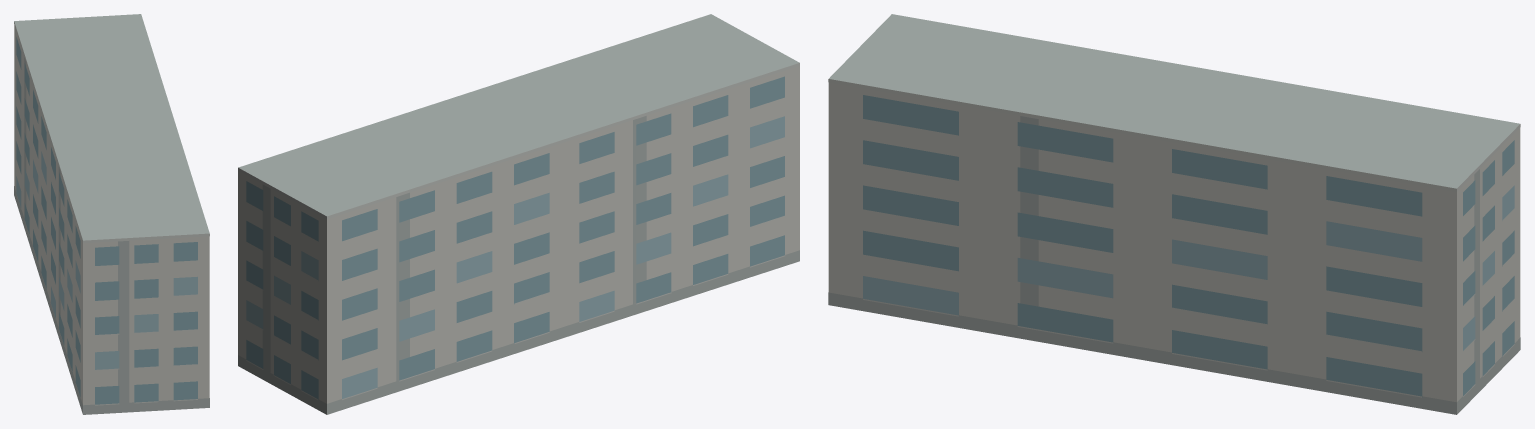
The model's file is residential-dc03321d-0257-4aed-bbbf-1547e595a48e.glb.
The picture shows the model from 3 angles, left to right: view 1: azimuth 30°, elevation 25°; view 2: azimuth 150°, elevation 25°; view 3: azimuth 270°, elevation 25°; orthographic projection. The views are drawn at different scales.
Parts seen in each view (by area): view 1: residential-dc03321d-0257-4aed-bbbf-1547e595a48e.tmp; view 2: residential-dc03321d-0257-4aed-bbbf-1547e595a48e.tmp; view 3: residential-dc03321d-0257-4aed-bbbf-1547e595a48e.tmp.
Boxes of the visible parts, x1,y1,x2,y2 form: residential-dc03321d-0257-4aed-bbbf-1547e595a48e.tmp: [14, 14, 209, 414]; residential-dc03321d-0257-4aed-bbbf-1547e595a48e.tmp: [238, 14, 799, 414]; residential-dc03321d-0257-4aed-bbbf-1547e595a48e.tmp: [828, 14, 1520, 414].
Bounding box in the file's own units: 25.26 × 15.25 × 42.28.
